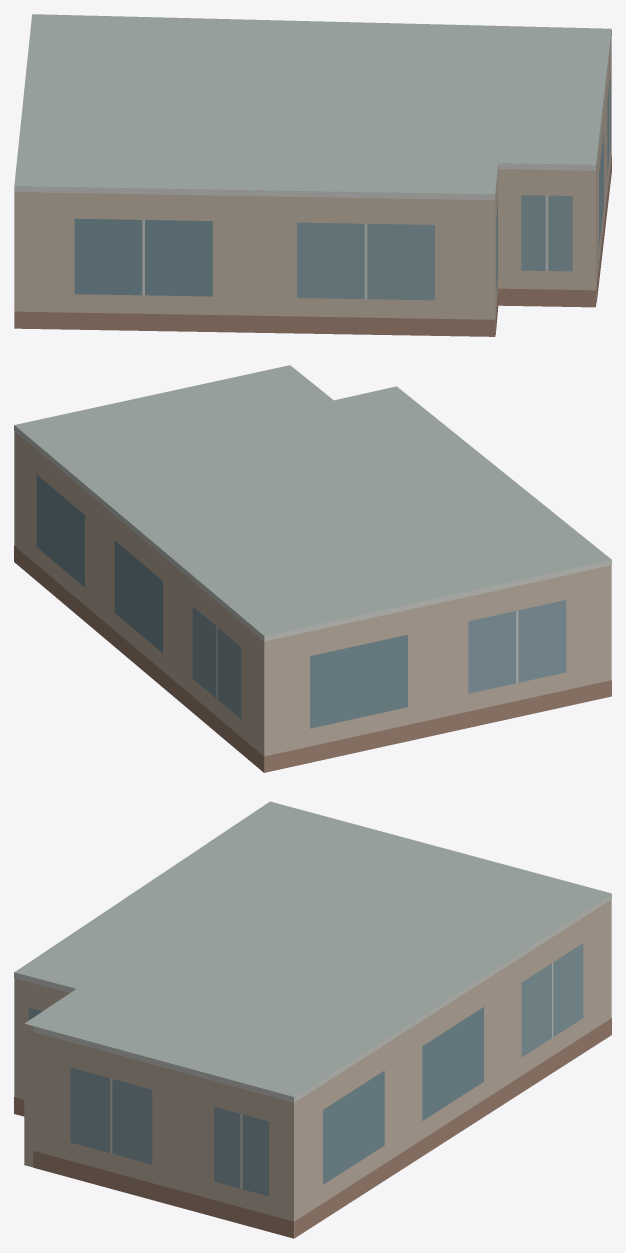
Rendered from survey-upis-32734995.glb.
3 views of the same model, one above another, from view 1: azimuth 30°, elevation 25°; view 2: azimuth 150°, elevation 25°; view 3: azimuth 270°, elevation 25° (orthographic). The views are drawn at different scales.
Parts seen in each view (by area): view 1: survey-upis-32734995.tmp; view 2: survey-upis-32734995.tmp; view 3: survey-upis-32734995.tmp.
Boxes of the visible parts, <box> form: survey-upis-32734995.tmp: <box>14,14,611,336</box>; survey-upis-32734995.tmp: <box>14,365,611,772</box>; survey-upis-32734995.tmp: <box>14,801,611,1238</box>.
Size of the model in its own units: 13.68 by 3.05 by 11.68.
